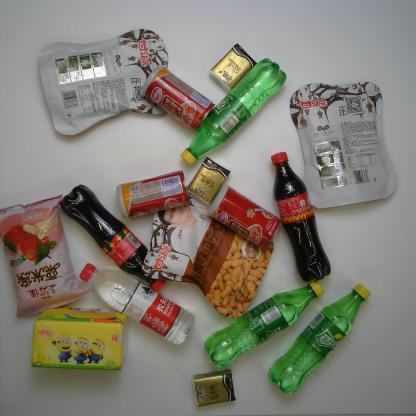Canned Food: (206, 180, 282, 250), (139, 65, 215, 133), (115, 169, 190, 219)
Dried Fruit: (141, 200, 275, 320), (37, 27, 171, 136), (288, 80, 398, 211)
Drink: (59, 184, 169, 294), (267, 281, 371, 397), (180, 57, 287, 166), (202, 278, 325, 369), (78, 262, 196, 347), (269, 150, 332, 284)
Puffed Food: (0, 193, 92, 318)
Tissue: (30, 306, 129, 372), (208, 42, 258, 93), (186, 155, 231, 207), (192, 368, 236, 408)
